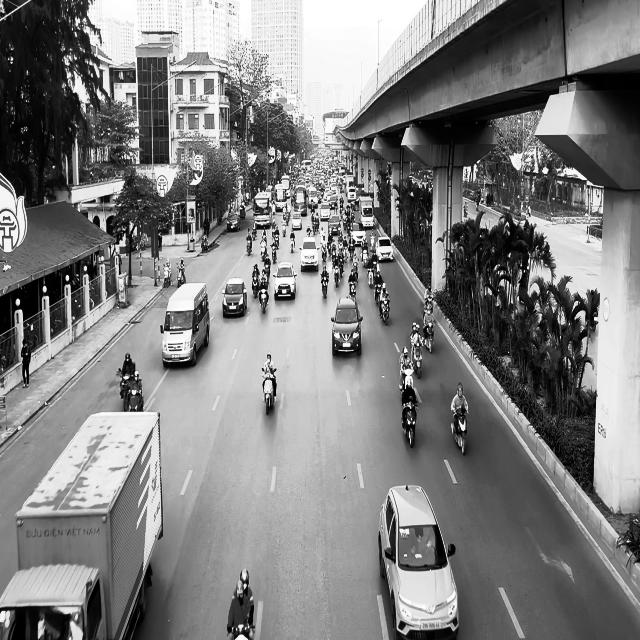car: (378, 484, 459, 640), (330, 296, 363, 356), (222, 277, 247, 318), (274, 261, 298, 300), (299, 236, 319, 272), (376, 236, 393, 261), (226, 212, 240, 231)
motorbike: (119, 369, 144, 412), (401, 392, 418, 448), (450, 408, 468, 454), (262, 368, 276, 414), (410, 340, 422, 378), (423, 320, 434, 353), (379, 295, 390, 325), (258, 282, 268, 314), (320, 267, 329, 298)
truck: (0, 410, 163, 638), (160, 282, 210, 368)
